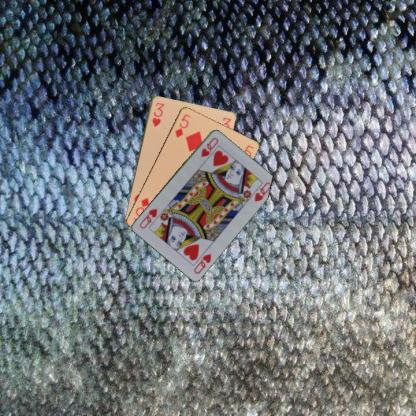3h: (150, 100, 165, 128)
5d: (172, 111, 192, 139)
Qh: (191, 251, 213, 275), (198, 135, 220, 158)
